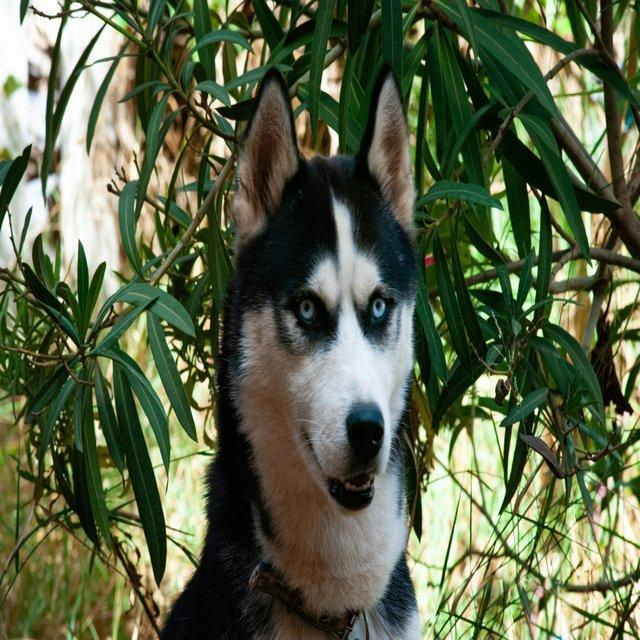husky: (156, 61, 424, 638)
